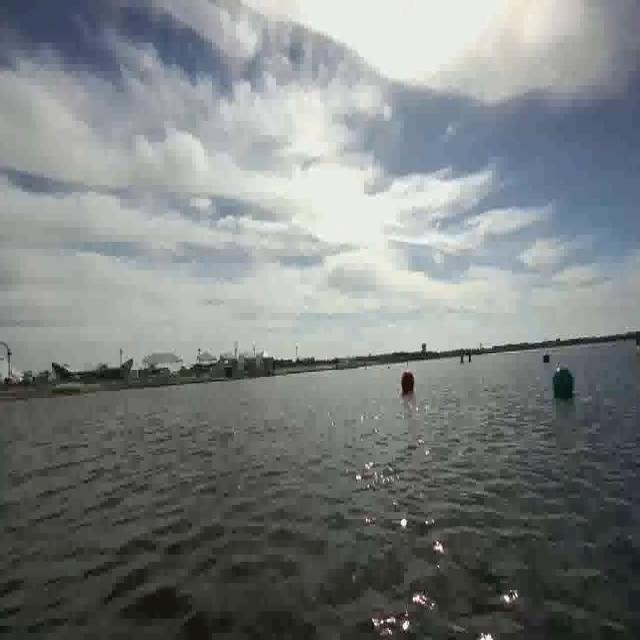green-buoy: (551, 365, 579, 406)
red-buoy: (402, 369, 416, 393)
